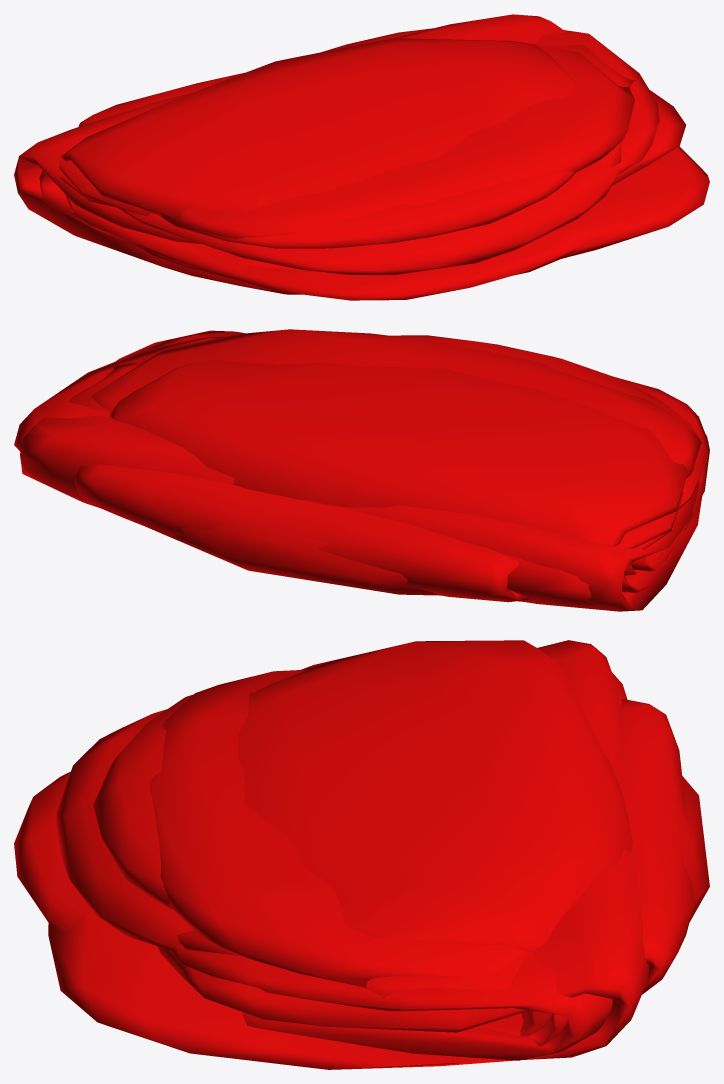
Rendered from omelettes_grp.fbx.
The picture shows the model from 3 angles, top to bottom: view 1: azimuth 30°, elevation 25°; view 2: azimuth 150°, elevation 25°; view 3: azimuth 270°, elevation 25°; orthographic projection. The views are drawn at different scales.
Parts seen in each view (by area): view 1: omelette_7, omelette_9, omelette_10, omelette_5, omelette_3, omelette_4, omelette_2, omelette_6, omelette_1, omelette_8; view 2: omelette_7, omelette_6, omelette_5, omelette_10, omelette_4, omelette_2, omelette_3, omelette_9, omelette_1; view 3: omelette_7, omelette_5, omelette_10, omelette_4, omelette_9, omelette_6, omelette_3, omelette_2, omelette_1, omelette_8.
Part boxes in pixels (x1=…): omelette_7: x1=61, y1=38, x2=575, y2=218; omelette_9: x1=65, y1=162, x2=620, y2=300; omelette_10: x1=143, y1=45, x2=634, y2=271; omelette_5: x1=14, y1=14, x2=709, y2=294; omelette_3: x1=146, y1=171, x2=575, y2=272; omelette_4: x1=157, y1=30, x2=659, y2=260; omelette_2: x1=59, y1=44, x2=635, y2=252; omelette_6: x1=78, y1=28, x2=432, y2=126; omelette_1: x1=39, y1=170, x2=113, y2=220; omelette_8: x1=139, y1=142, x2=621, y2=275; omelette_7: x1=110, y1=359, x2=687, y2=601; omelette_6: x1=74, y1=464, x2=528, y2=602; omelette_5: x1=20, y1=330, x2=702, y2=611; omelette_10: x1=92, y1=329, x2=700, y2=530; omelette_4: x1=14, y1=336, x2=440, y2=595; omelette_2: x1=68, y1=363, x2=683, y2=606; omelette_3: x1=390, y1=335, x2=701, y2=509; omelette_9: x1=616, y1=377, x2=709, y2=571; omelette_1: x1=622, y1=530, x2=671, y2=592; omelette_7: x1=237, y1=640, x2=632, y2=952; omelette_5: x1=48, y1=640, x2=649, y2=1069; omelette_10: x1=149, y1=669, x2=528, y2=987; omelette_4: x1=169, y1=776, x2=709, y2=1060; omelette_9: x1=14, y1=709, x2=192, y2=950; omelette_6: x1=620, y1=699, x2=694, y2=994; omelette_3: x1=93, y1=695, x2=192, y2=909; omelette_2: x1=357, y1=672, x2=627, y2=1036; omelette_1: x1=480, y1=1013, x2=568, y2=1045; omelette_8: x1=177, y1=929, x2=242, y2=956.
Size of the model in its own units: 22.1 by 4.14 by 17.5.
